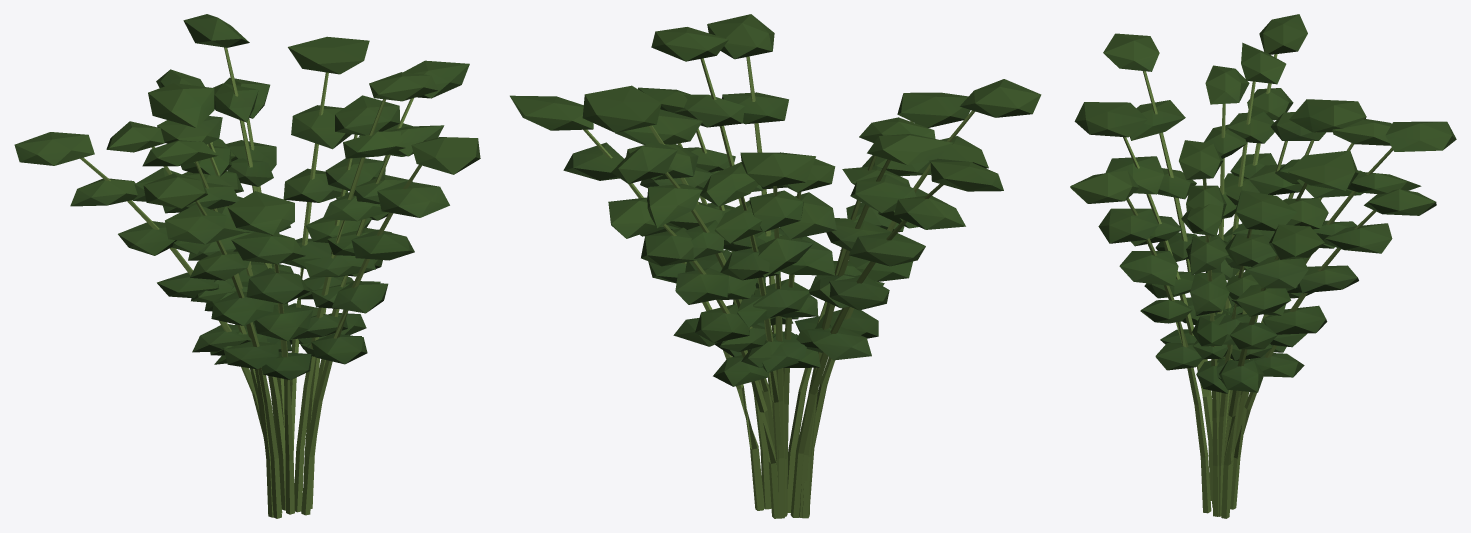
File: bui_tre.glb
3 renders of one model, left to right at view 1: azimuth 30°, elevation 25°; view 2: azimuth 150°, elevation 25°; view 3: azimuth 270°, elevation 25°, orthographic. The views are drawn at different scales.
Parts seen in each view (by area): view 1: la, than4, than12, than9, than6, than1, than5, than11, than13, than3, than10, than2; view 2: la, than13, than14, than7, than0, than6, than9, than8, than15, than11, than1, than2 (+1 smaller); view 3: la, than12, than7, than6, than14, than2, than10, than9, than3, than8, than11.
Boxes of the visible parts, left/top/right/bottom form: la: left=14, top=14, right=480, bottom=379; than4: left=294, top=99, right=385, bottom=512; than12: left=301, top=164, right=421, bottom=515; than9: left=195, top=200, right=281, bottom=518; than6: left=270, top=235, right=294, bottom=514; than1: left=207, top=144, right=285, bottom=510; than5: left=289, top=72, right=328, bottom=452; than11: left=195, top=161, right=273, bottom=517; than13: left=80, top=157, right=282, bottom=512; than3: left=224, top=47, right=284, bottom=432; than10: left=309, top=154, right=390, bottom=508; than2: left=303, top=134, right=357, bottom=478; la: left=510, top=14, right=1041, bottom=386; than13: left=790, top=184, right=943, bottom=517; than14: left=583, top=129, right=764, bottom=510; than7: left=663, top=224, right=778, bottom=518; than0: left=773, top=186, right=785, bottom=518; than6: left=787, top=121, right=913, bottom=512; than9: left=810, top=110, right=975, bottom=498; than8: left=799, top=159, right=890, bottom=517; than15: left=740, top=196, right=781, bottom=485; than11: left=802, top=155, right=876, bottom=518; than1: left=783, top=192, right=801, bottom=516; than2: left=677, top=143, right=771, bottom=509; la: left=1070, top=14, right=1456, bottom=393; than12: left=1126, top=198, right=1211, bottom=513; than7: left=1230, top=210, right=1376, bottom=509; than6: left=1123, top=137, right=1212, bottom=507; than14: left=1221, top=255, right=1278, bottom=518; than2: left=1218, top=229, right=1251, bottom=516; than10: left=1205, top=235, right=1219, bottom=516; than9: left=1143, top=71, right=1212, bottom=500; than3: left=1232, top=147, right=1393, bottom=470; than8: left=1220, top=81, right=1255, bottom=404; than11: left=1217, top=103, right=1225, bottom=414.
Size of the model in its own units: 9.98 by 8.71 by 7.53.
